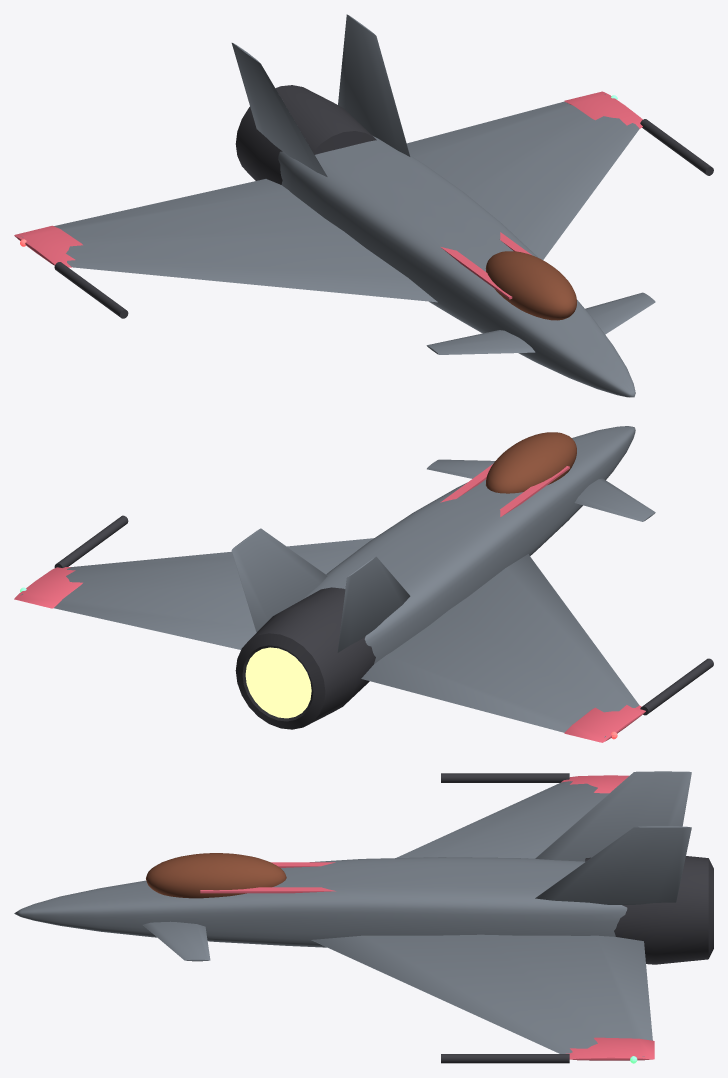
Rendered from ship_fighter.glb.
The picture shows the model from 3 angles, top to bottom: view 1: azimuth 30°, elevation 25°; view 2: azimuth 150°, elevation 25°; view 3: azimuth 270°, elevation 25°; orthographic projection.
Visible parts, largest first — view 1: hull, canopy; view 2: hull, canopy, engine_glow; view 3: hull, canopy.
Part boxes in pixels (x1,y1,x2,y2): hull: [14, 14, 713, 397]; canopy: [485, 251, 576, 320]; hull: [14, 426, 713, 742]; canopy: [486, 432, 576, 493]; engine_glow: [245, 647, 311, 718]; hull: [14, 771, 713, 1063]; canopy: [146, 853, 286, 898].
Size of the model in its own units: 12.63 by 3.31 by 13.08.
